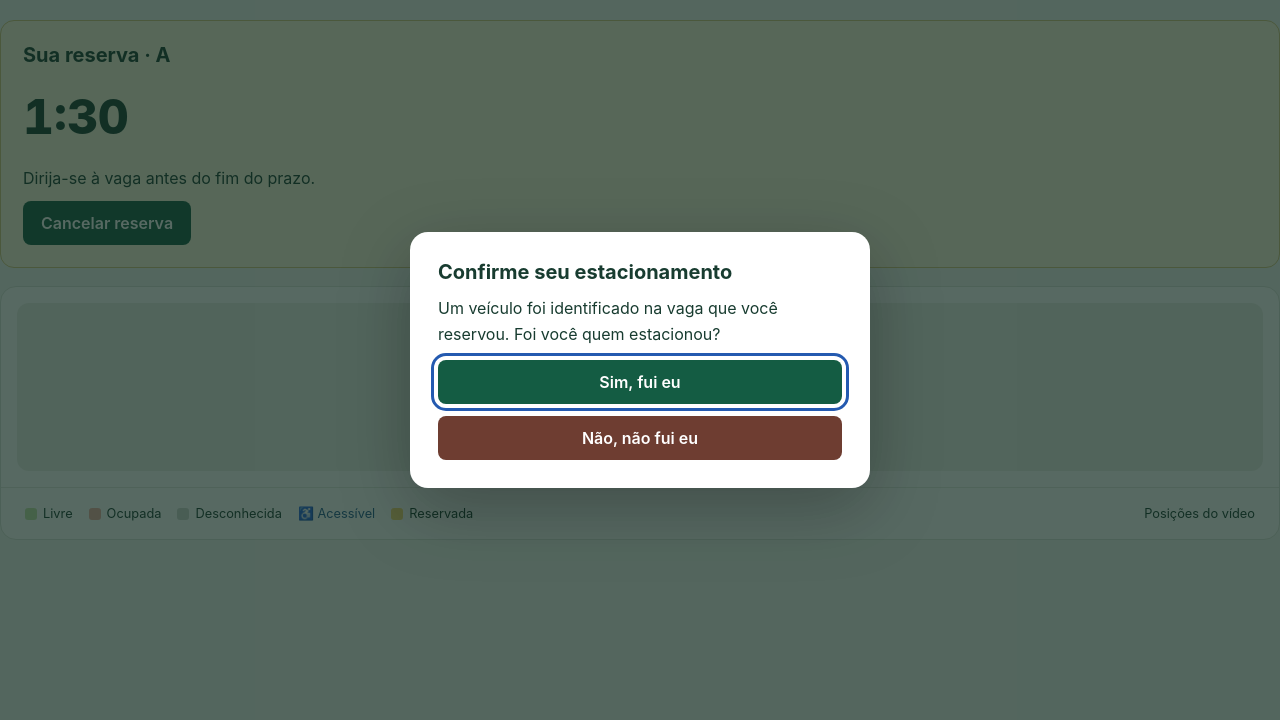
confirma estacionamento e encerra a reserva no retorno do backend
The width and height of the screenshot is (1280, 720).
Step 1. Click the button "Sim, fui eu" → (640, 382), box [438,360,842,404]
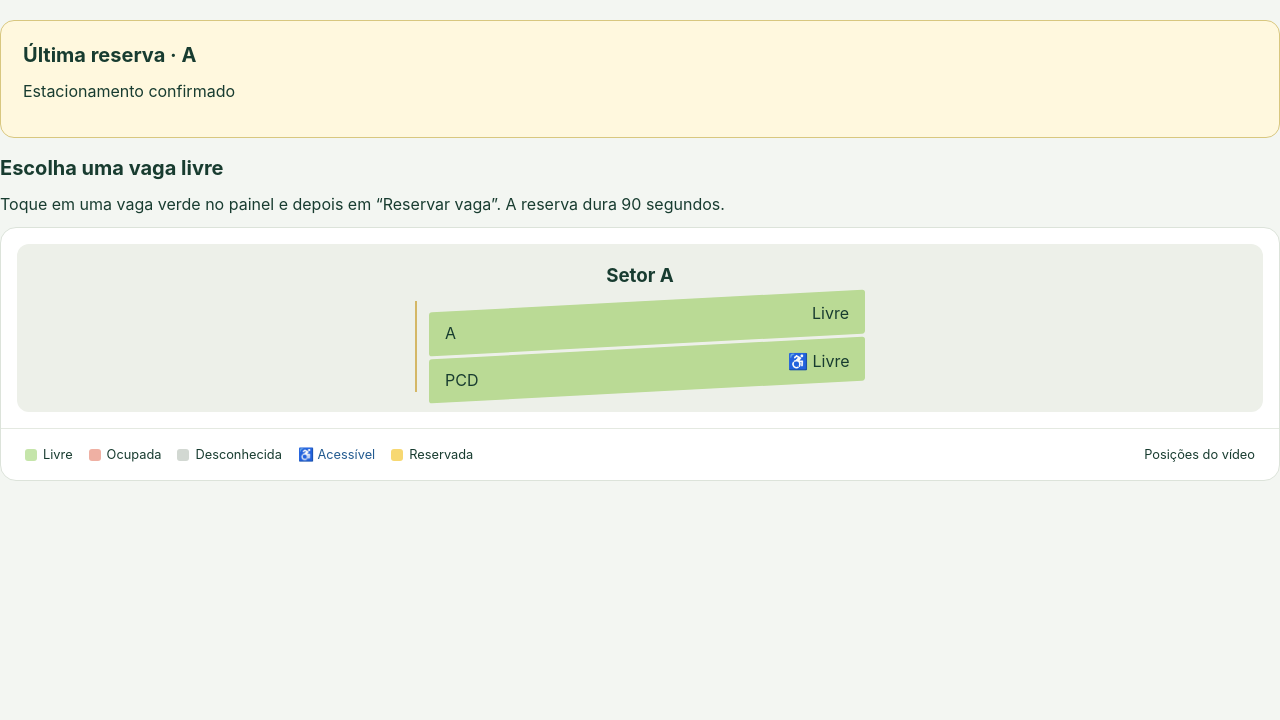
Expected: the text "Estacionamento confirmado" is shown, [23,81,235,101]
